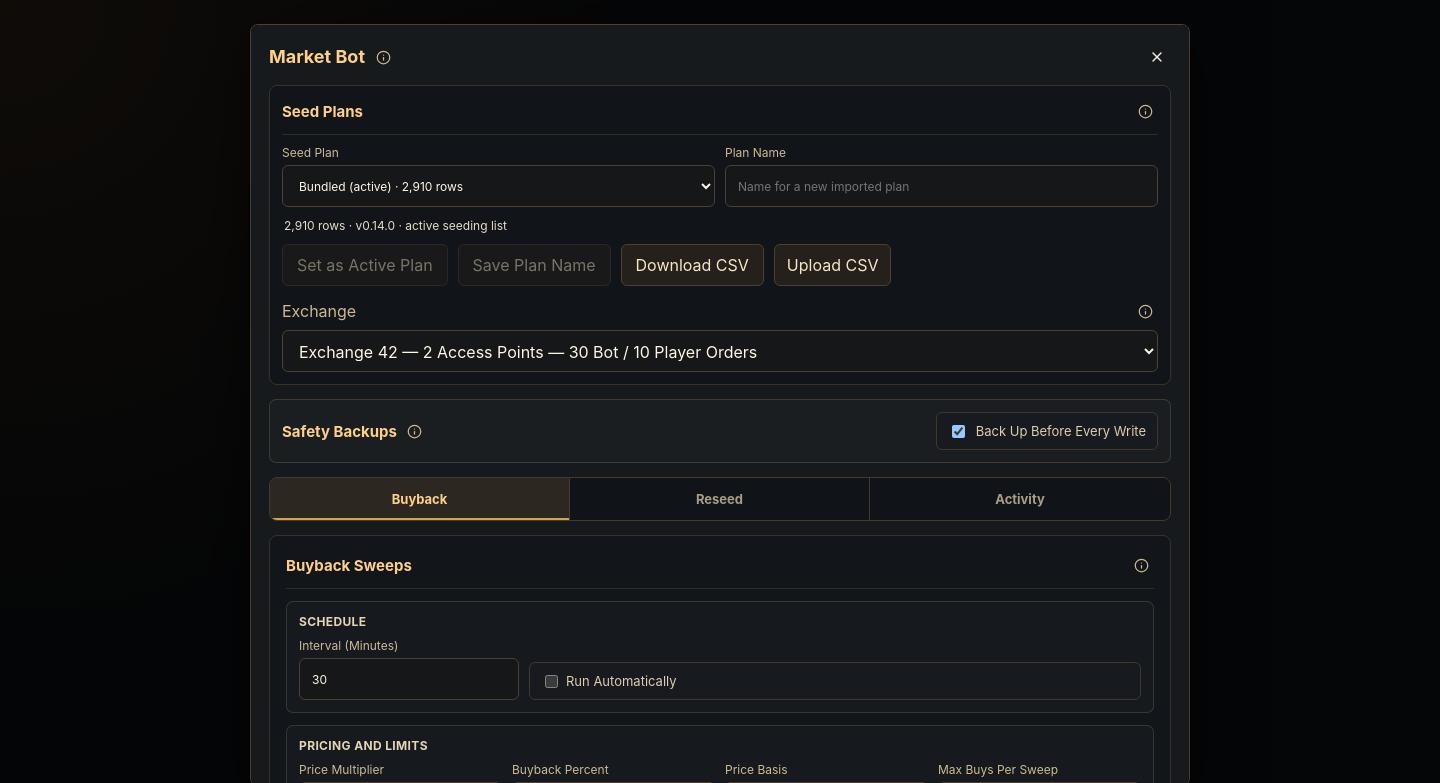
MarketBotOverlay › loads status and exchanges with organized settings tabs
Check: the text "2,910 rows · v0.14.0 · active seeding list" is shown, box top-left (284, 218), bottom-right (507, 233)
Check: the dropdown labelled "Seed Plan" is shown, box top-left (282, 165), bottom-right (715, 207)
Step 1. Click the tab "Reseed" → (720, 499), box top-left (570, 478), bottom-right (870, 520)
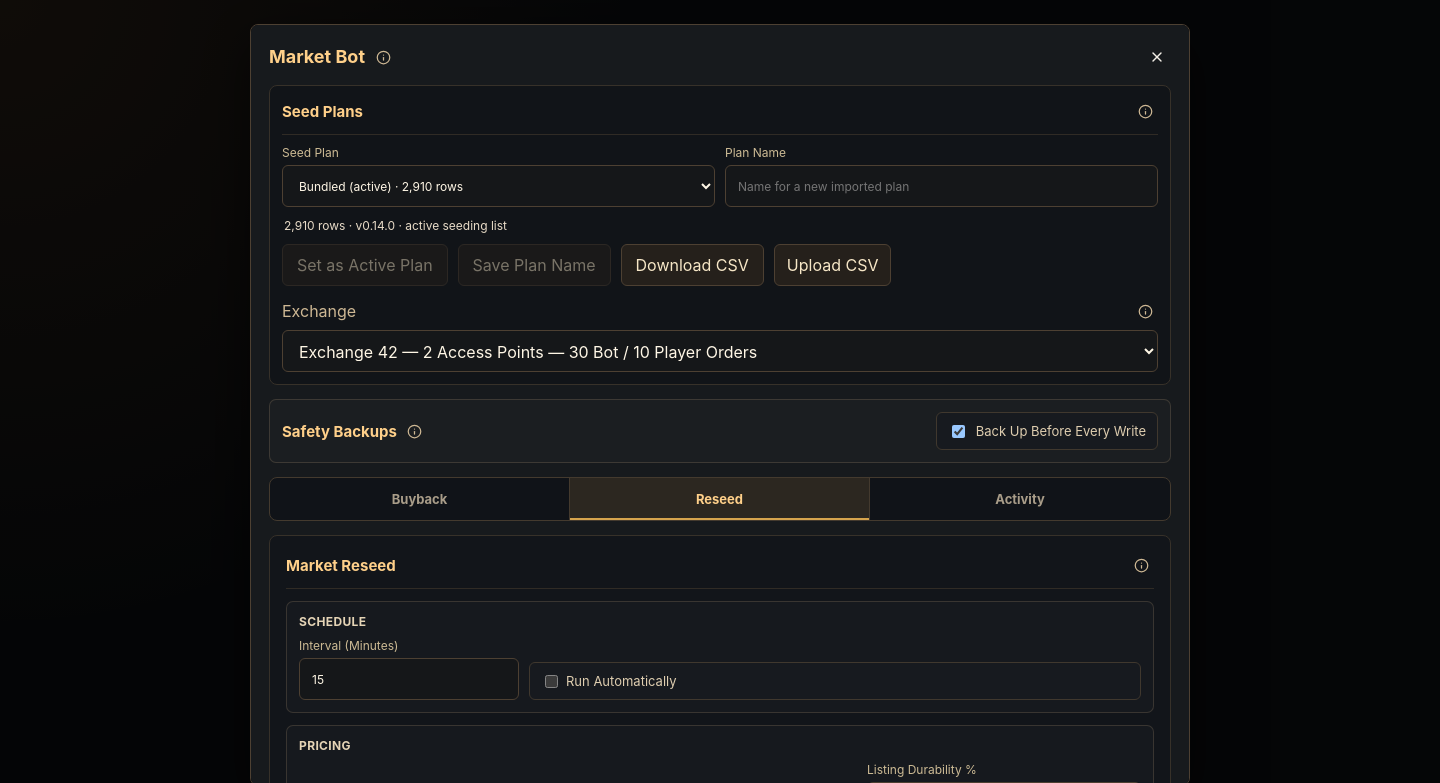
Check: the text "Market Reseed" is shown, box top-left (286, 556), bottom-right (396, 575)
